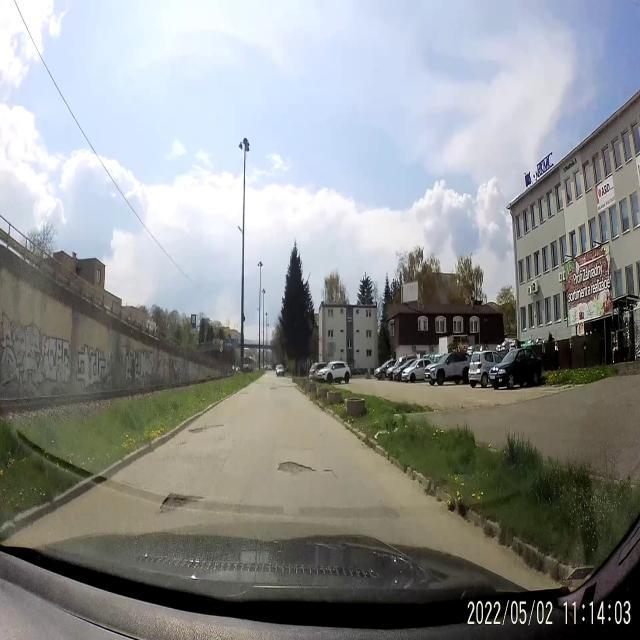Pothole: (151, 486, 200, 524), (278, 456, 318, 486), (190, 418, 228, 438), (323, 462, 342, 484), (268, 385, 278, 392)
